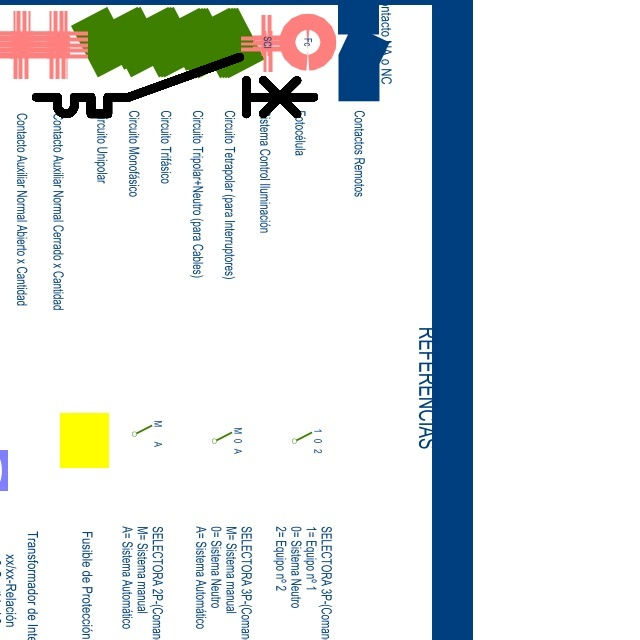interruptor_termomagnetico: (29, 50, 321, 121)
